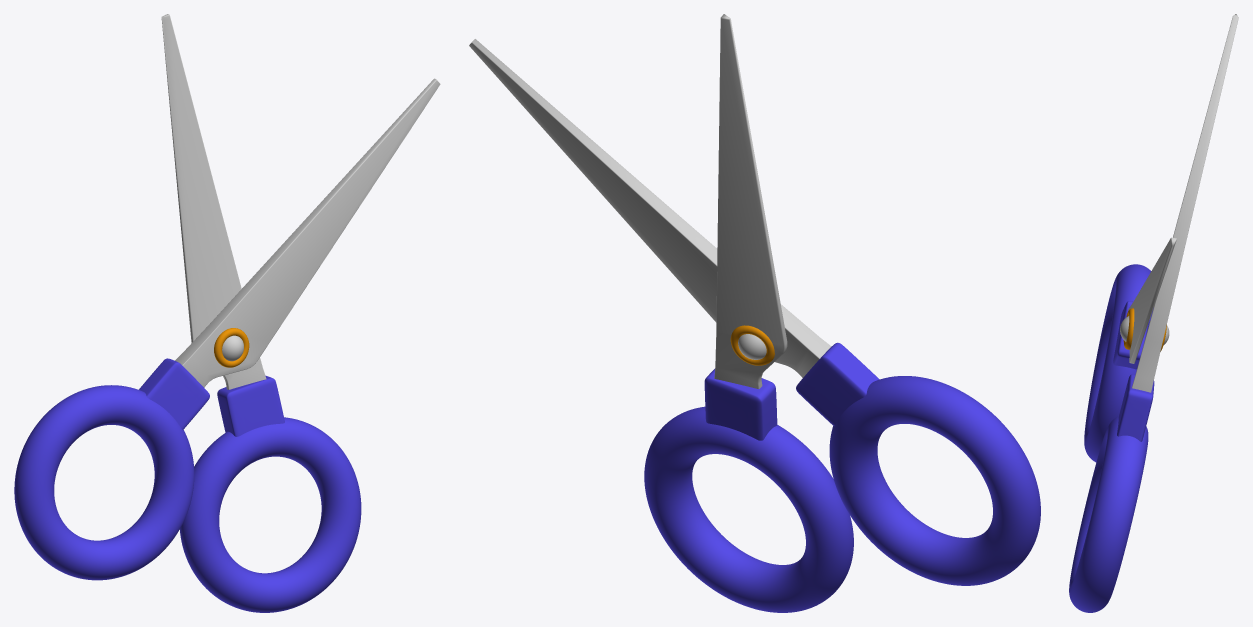
The model's file is scissor.glb.
3 views of the same model, side by side, from view 1: azimuth 30°, elevation 25°; view 2: azimuth 150°, elevation 25°; view 3: azimuth 270°, elevation 25° (orthographic). The views are drawn at different scales.
Parts seen in each view (by area): view 1: Torus.001; view 2: Torus.001; view 3: Torus.001.
Part boxes in pixels (bbox=[...]): Torus.001: bbox=[14, 14, 440, 612]; Torus.001: bbox=[469, 14, 1040, 612]; Torus.001: bbox=[1069, 14, 1238, 612].
Size of the model in its own units: 5.89 by 6.96 by 1.89.
